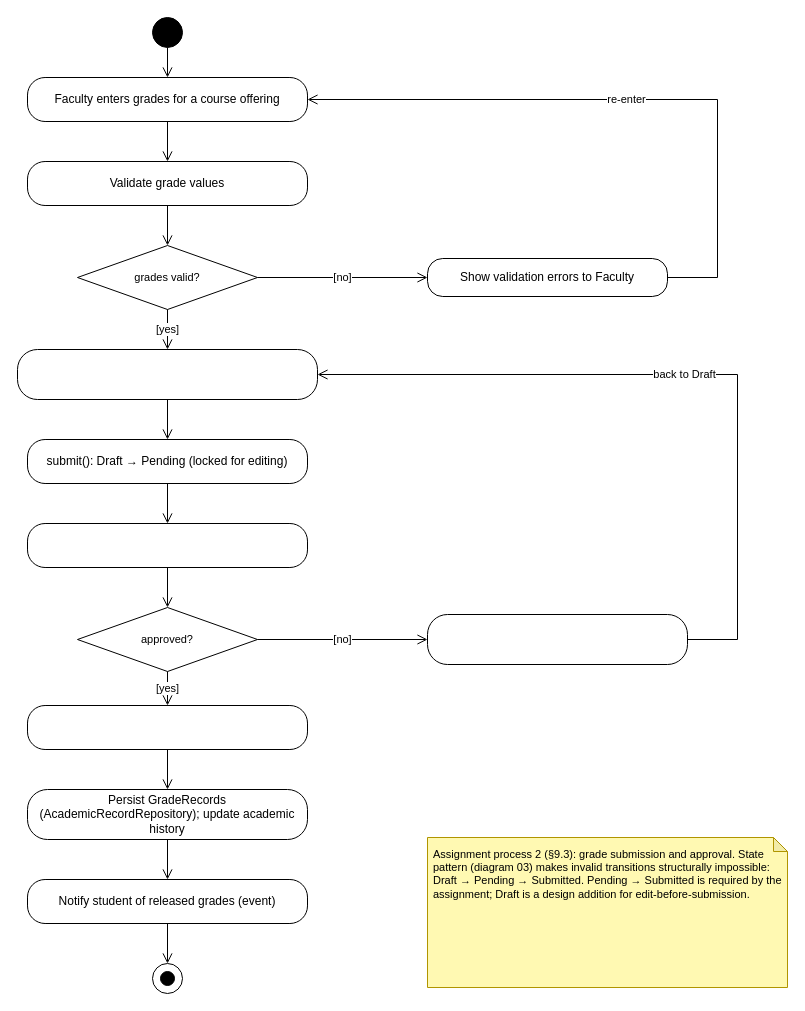
This 805x1011 diagram has some shape labels left out. The centre of each missing label's shape, as x and y in pixels:
"Administrator / registrar reviews the submission" belongs at point 167,545.
"approve(): Pending → Submitted (final)" belongs at point 167,727.
"GradeSubmission in Draft — Faculty may edit() (DraftState)" belongs at point 167,374.
"Return for correction — submission goes back to Draft" belongs at point 557,639.
